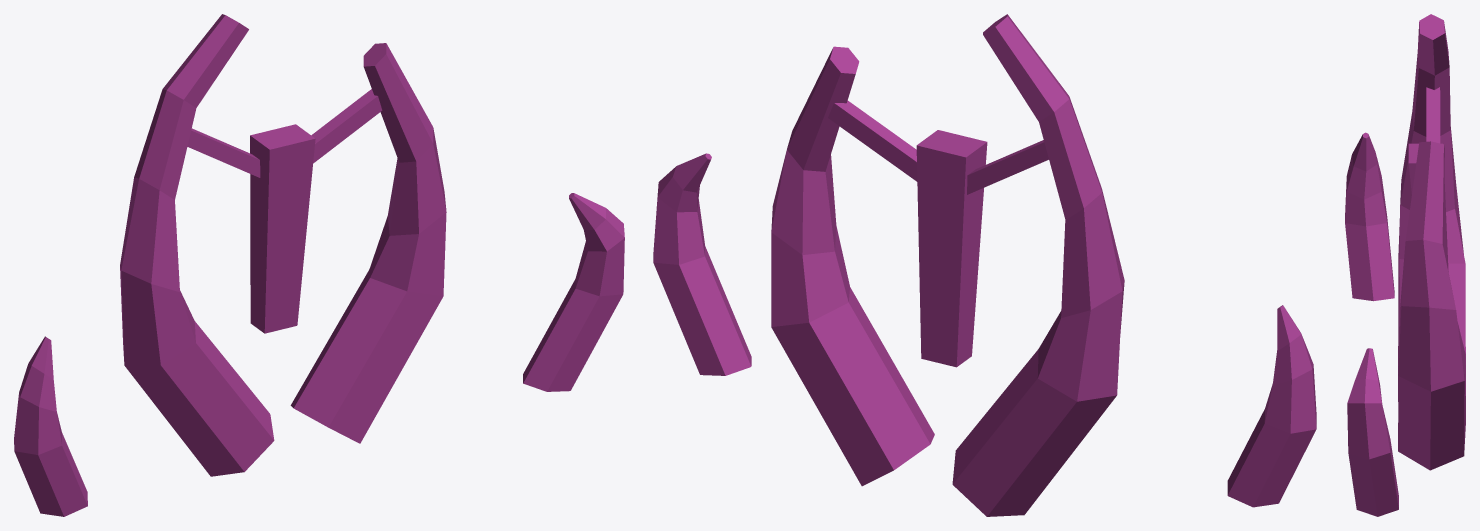
The model's file is SM_Prop_Effigy_01_Collision.fbx.
3 views of the same model, side by side, from view 1: azimuth 30°, elevation 25°; view 2: azimuth 150°, elevation 25°; view 3: azimuth 270°, elevation 25° (orthographic). The views are drawn at different scales.
Visible parts, largest first — view 1: SM_Prop_Effigy_01_Collision; view 2: SM_Prop_Effigy_01_Collision; view 3: SM_Prop_Effigy_01_Collision.
Part boxes in pixels (x1,y1,x2,y2): SM_Prop_Effigy_01_Collision: (14,14,624,516); SM_Prop_Effigy_01_Collision: (653,14,1316,516); SM_Prop_Effigy_01_Collision: (1345,14,1465,516).
Size of the model in its own units: 582 by 417 by 114.
